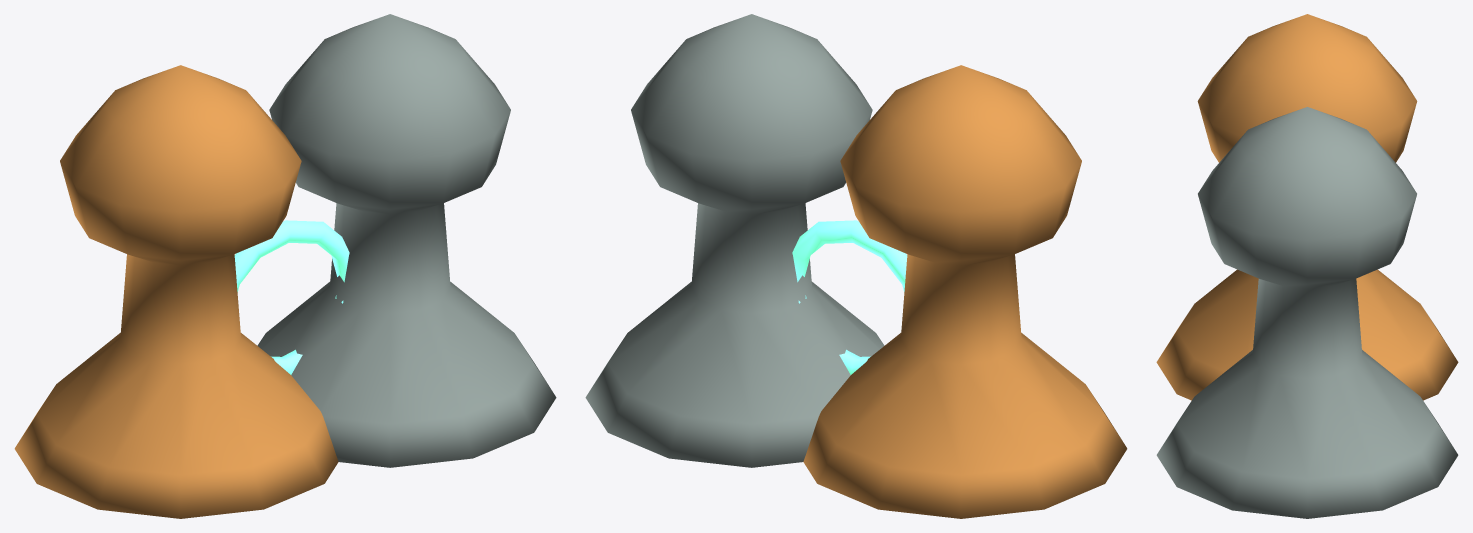
The model's file is chess-handoff-marker.glb.
3 views of the same model, side by side, from view 1: azimuth 30°, elevation 25°; view 2: azimuth 150°, elevation 25°; view 3: azimuth 270°, elevation 25° (orthographic). The views are drawn at different scales.
Visible parts, largest first — view 1: PawnLichess, PawnChessCom, HandoffRing; view 2: PawnLichess, PawnChessCom, HandoffRing; view 3: PawnChessCom, PawnLichess.
Part boxes in pixels (x1=…): PawnLichess: x1=14, y1=65, x2=338, y2=518; PawnChessCom: x1=257, y1=14, x2=556, y2=467; HandoffRing: x1=234, y1=220, x2=349, y2=374; PawnLichess: x1=803, y1=65, x2=1127, y2=518; PawnChessCom: x1=585, y1=14, x2=884, y2=467; HandoffRing: x1=792, y1=220, x2=907, y2=374; PawnChessCom: x1=1156, y1=107, x2=1458, y2=518; PawnLichess: x1=1156, y1=14, x2=1458, y2=400.
Size of the model in its own units: 0.76 by 0.56 by 0.44.
